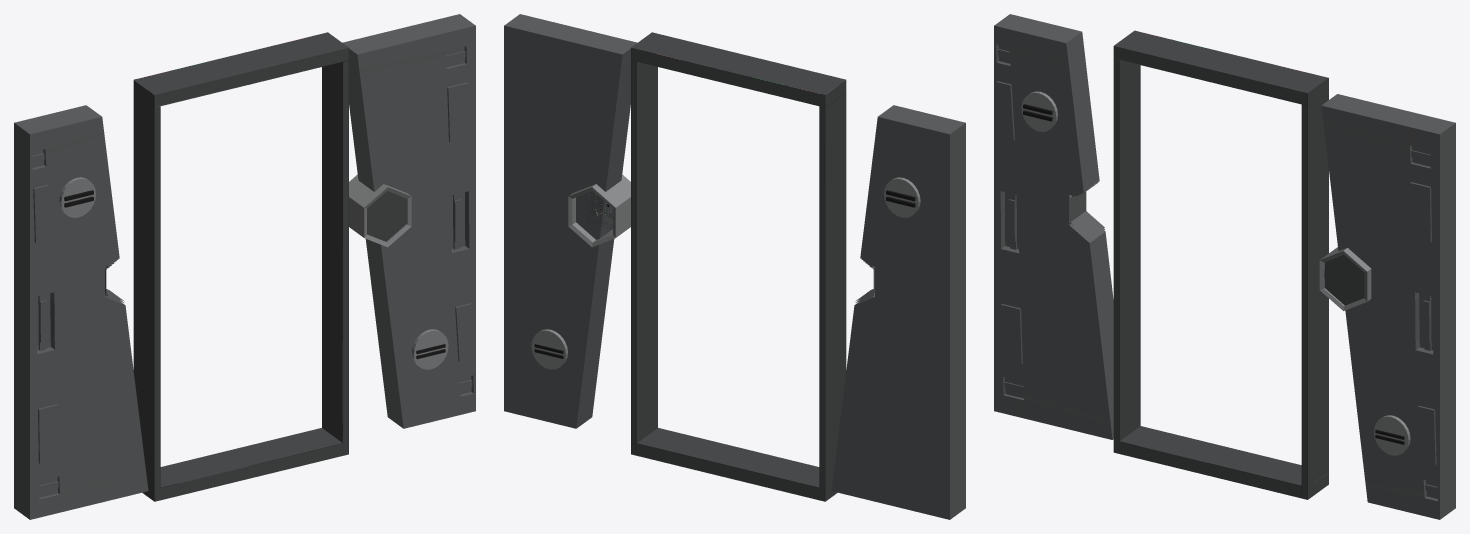
Rendered from dooropen.obj.
3 renders of one model, left to right at view 1: azimuth 30°, elevation 25°; view 2: azimuth 150°, elevation 25°; view 3: azimuth 330°, elevation 25°, orthographic.
Parts seen in each view (by area): view 1: partr, partl, tour; view 2: partr, partl, tour; view 3: partr, partl, tour.
Part boxes in pixels (x1,y1,x2,y2): partr: (342, 14, 475, 428); partl: (14, 105, 148, 519); tour: (133, 32, 348, 501); partr: (504, 14, 637, 428); partl: (831, 105, 965, 519); tour: (631, 32, 846, 501); partr: (1319, 94, 1455, 519); partl: (994, 14, 1113, 439); tour: (1113, 30, 1328, 499).
Size of the model in its own units: 2.29 by 2 by 0.2176.
1 material, 1 textured.
